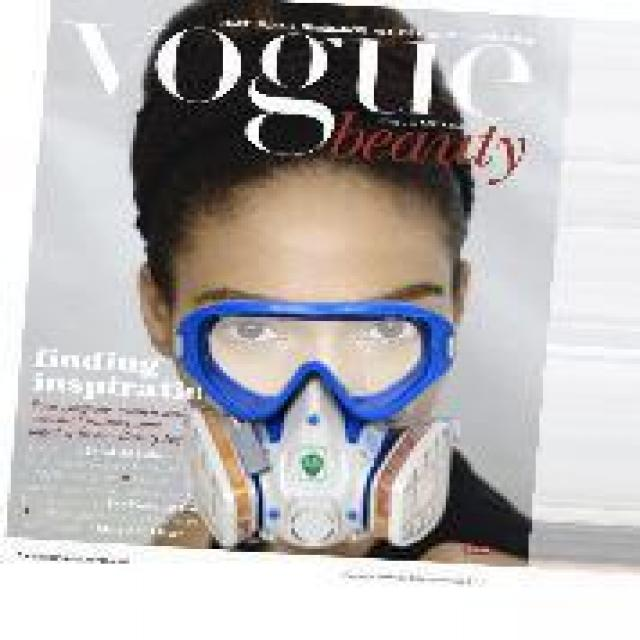mask: (119, 114, 492, 564)
